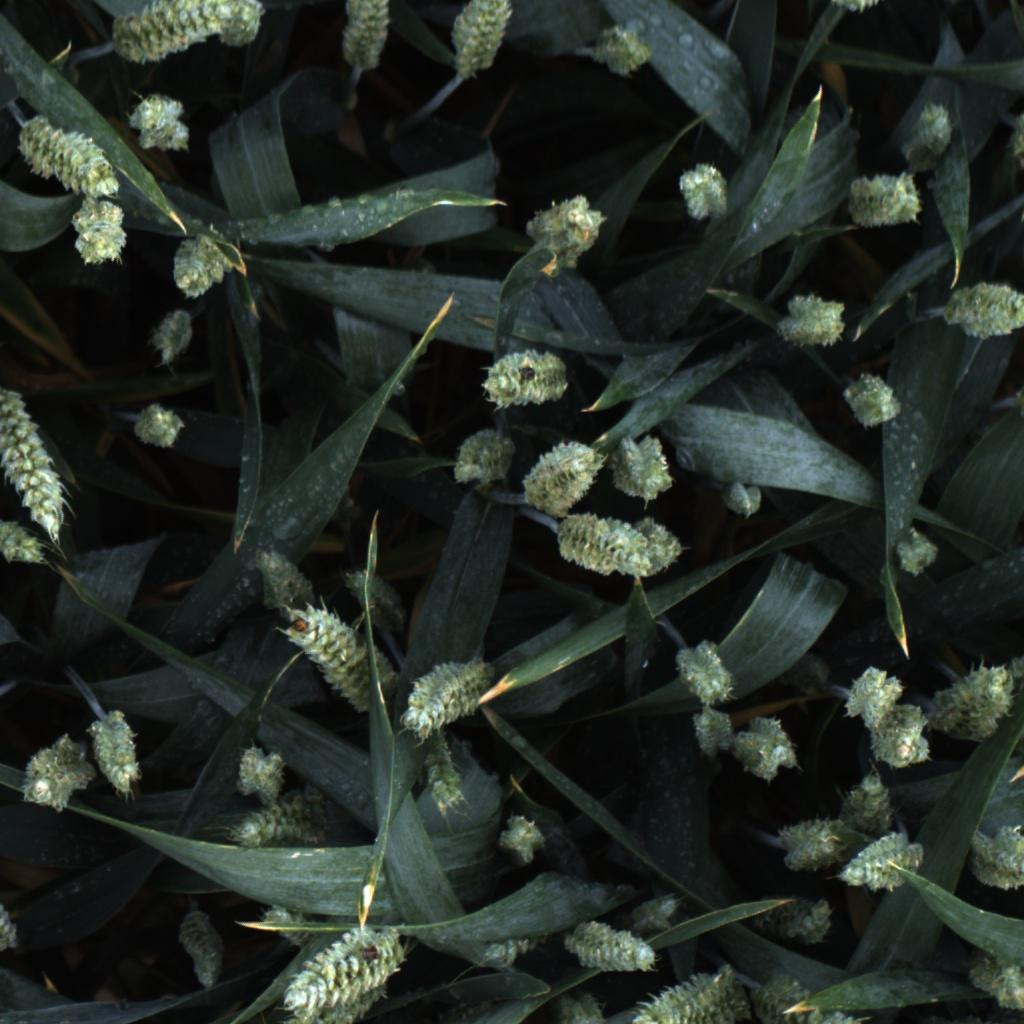0-0: (282, 605, 403, 725), (280, 922, 414, 1015), (0, 379, 78, 531), (13, 112, 121, 199), (627, 959, 762, 1024), (101, 0, 236, 64), (519, 428, 611, 515), (548, 510, 659, 581), (473, 343, 576, 414), (13, 731, 94, 816), (935, 656, 1018, 738), (744, 968, 865, 1024), (836, 825, 931, 896), (84, 703, 157, 795), (402, 658, 488, 735), (521, 193, 610, 263), (450, 0, 529, 78), (840, 166, 928, 236), (607, 426, 686, 503), (560, 917, 659, 977), (940, 272, 1024, 342), (65, 191, 136, 272), (222, 799, 333, 850), (275, 979, 394, 1024), (674, 631, 743, 708), (245, 540, 311, 618), (161, 232, 236, 299), (755, 893, 840, 952), (254, 897, 340, 955), (776, 808, 852, 873), (333, 0, 397, 75), (774, 288, 850, 351), (866, 703, 938, 768), (175, 910, 231, 993), (126, 87, 192, 157), (582, 17, 656, 79), (467, 925, 545, 983), (451, 425, 518, 492), (839, 660, 905, 728), (672, 158, 737, 226), (842, 764, 904, 834), (897, 98, 964, 162), (963, 823, 1024, 893), (840, 370, 906, 434), (741, 715, 803, 782), (228, 740, 295, 801), (881, 524, 950, 582), (489, 804, 549, 870), (965, 948, 1024, 1014), (421, 736, 468, 818), (627, 513, 683, 580), (141, 304, 200, 366), (124, 402, 194, 454), (0, 503, 47, 575), (214, 0, 278, 51), (716, 469, 772, 524), (625, 889, 683, 939), (688, 703, 739, 759), (543, 982, 607, 1024), (0, 856, 26, 950), (1007, 359, 1024, 435), (1010, 104, 1024, 183), (823, 0, 885, 16)
